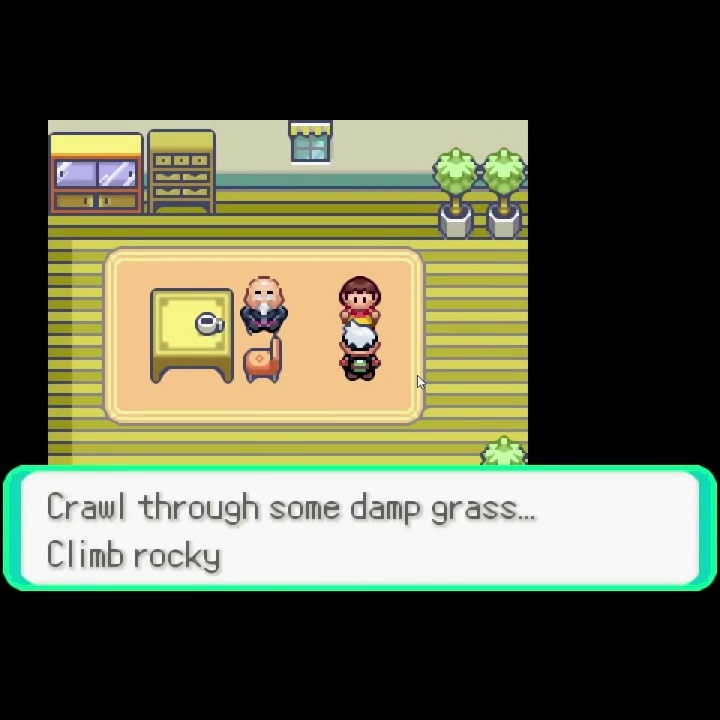npc: (239, 275, 290, 337), (337, 322, 383, 382), (339, 275, 384, 322)
